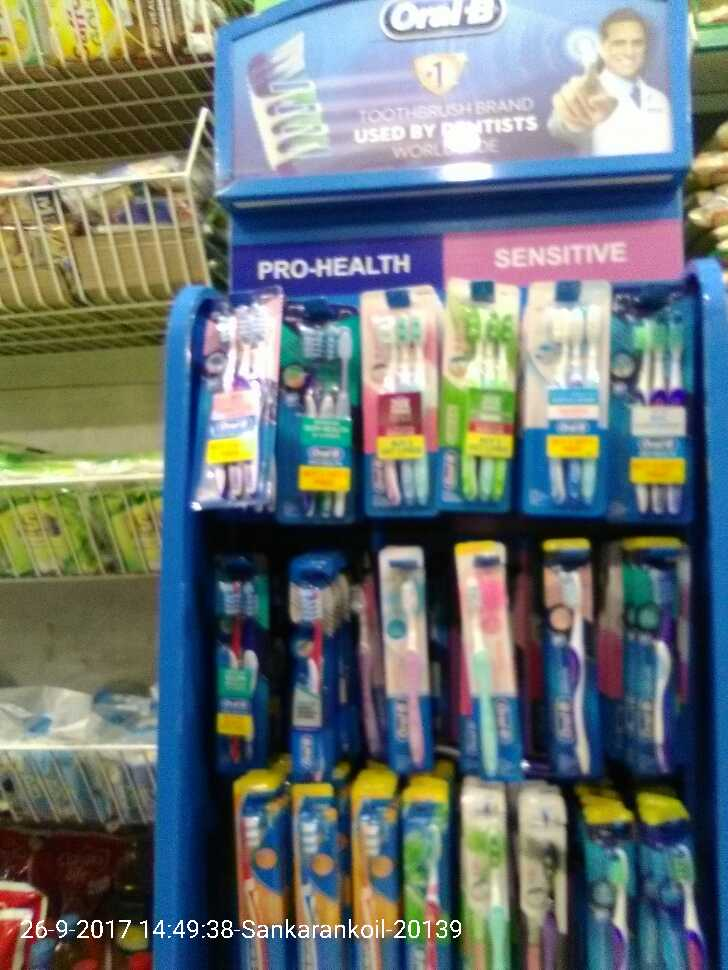oralb: (278, 298, 367, 518), (449, 542, 527, 776), (530, 540, 608, 774), (612, 538, 690, 772), (192, 294, 277, 508), (526, 286, 603, 522), (614, 284, 691, 520), (206, 555, 279, 769), (281, 553, 354, 767), (368, 547, 441, 761), (368, 298, 437, 507), (451, 296, 520, 505), (227, 777, 295, 962), (289, 778, 357, 963), (644, 777, 700, 965), (351, 776, 398, 965), (349, 774, 396, 963), (465, 780, 512, 969), (516, 778, 563, 967)
